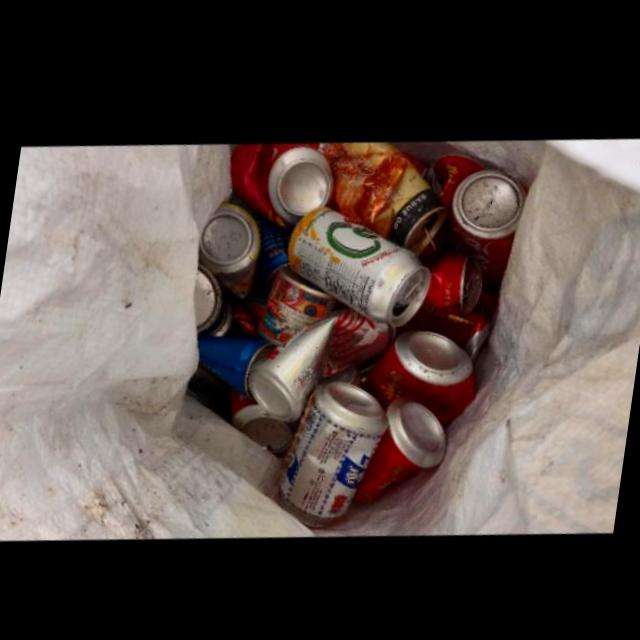nhom: (294, 207, 437, 327), (253, 308, 402, 422), (280, 381, 393, 526), (326, 143, 455, 254), (371, 330, 480, 426), (356, 398, 452, 503), (458, 171, 534, 287), (239, 143, 341, 229), (265, 265, 345, 347), (205, 202, 267, 298), (429, 254, 489, 317)
